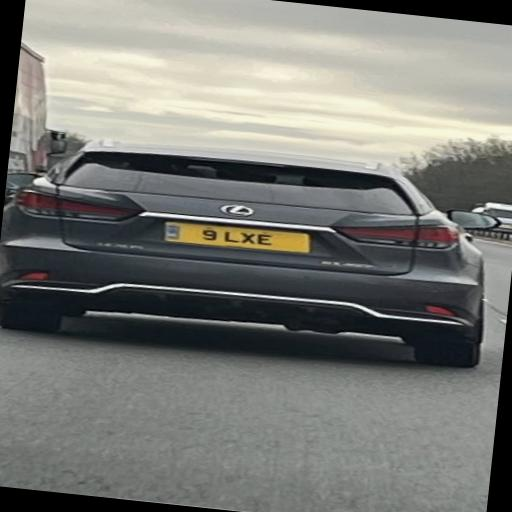numberplates: (165, 222, 311, 253)
